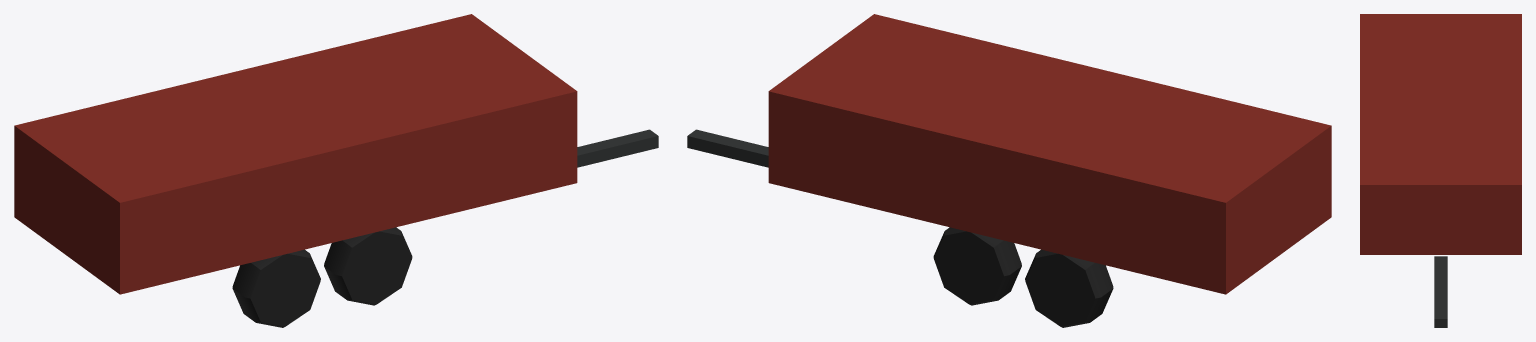
File: SM_Prop_farm_trailer_0_LOD1.glb
3 renders of one model, left to right at view 1: azimuth 30°, elevation 25°; view 2: azimuth 150°, elevation 25°; view 3: azimuth 270°, elevation 25°, orthographic. The views are drawn at different scales.
Parts seen in each view (by area): view 1: SM_Prop_farm_trailer_0_LOD1; view 2: SM_Prop_farm_trailer_0_LOD1; view 3: SM_Prop_farm_trailer_0_LOD1.
Boxes of the visible parts, left/top/right/bottom form: SM_Prop_farm_trailer_0_LOD1: left=14, top=14, right=658, bottom=327; SM_Prop_farm_trailer_0_LOD1: left=687, top=14, right=1331, bottom=327; SM_Prop_farm_trailer_0_LOD1: left=1360, top=14, right=1521, bottom=327.
Size of the model in its own units: 7.7 by 2.13 by 2.4.
